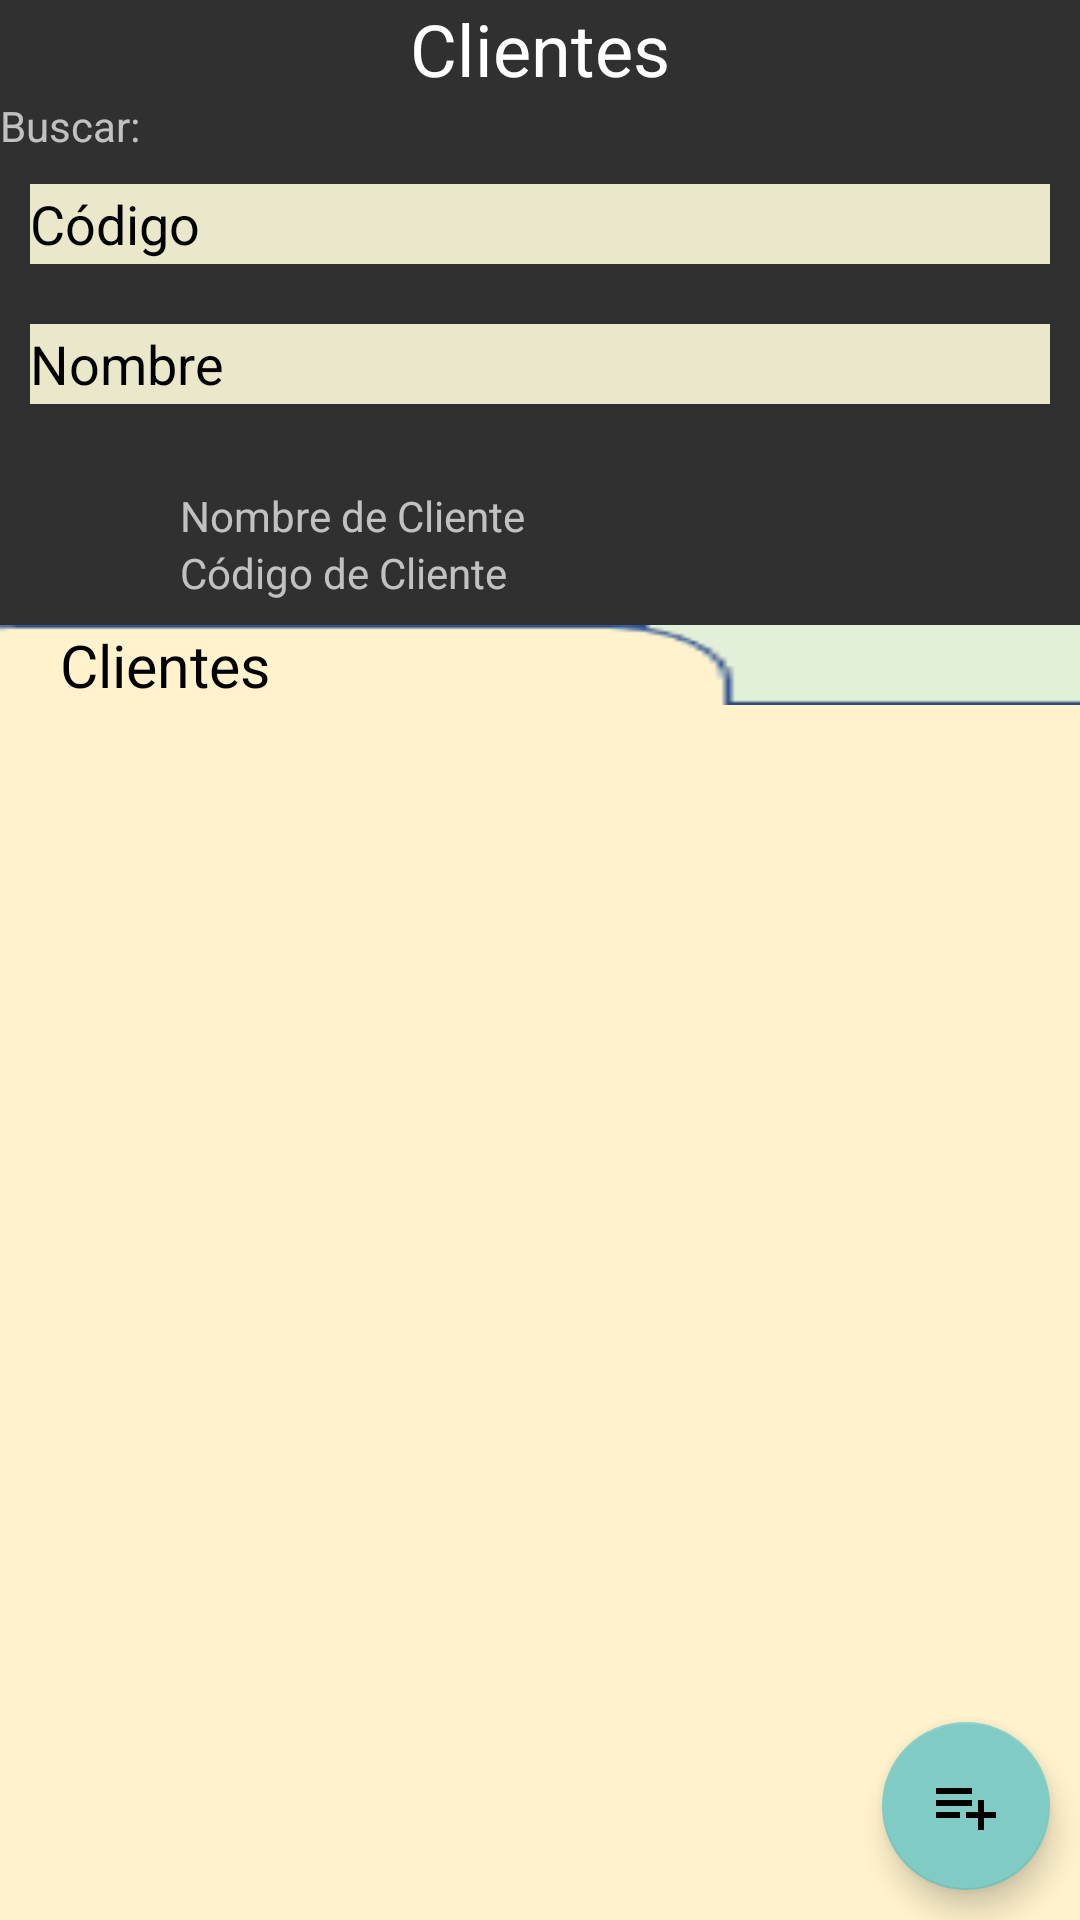

Named icons in this screenshot (1080*1920) and their centers, (x=x, y=y):
playlist add: (x=966, y=1806)
